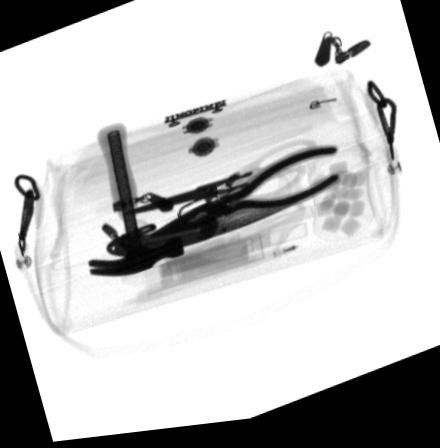Hammer: (87, 126, 183, 279)
Knife: (105, 203, 310, 260)
Pliers: (145, 153, 340, 244)
Scissors: (123, 146, 318, 219)
